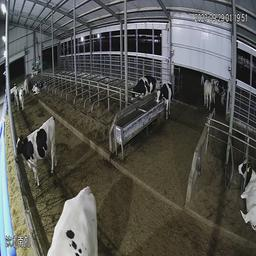cow: (8, 115, 63, 184), (50, 187, 105, 252), (237, 155, 255, 232), (157, 80, 176, 121), (129, 74, 159, 94), (199, 72, 210, 108), (9, 86, 20, 113), (31, 79, 46, 93)
